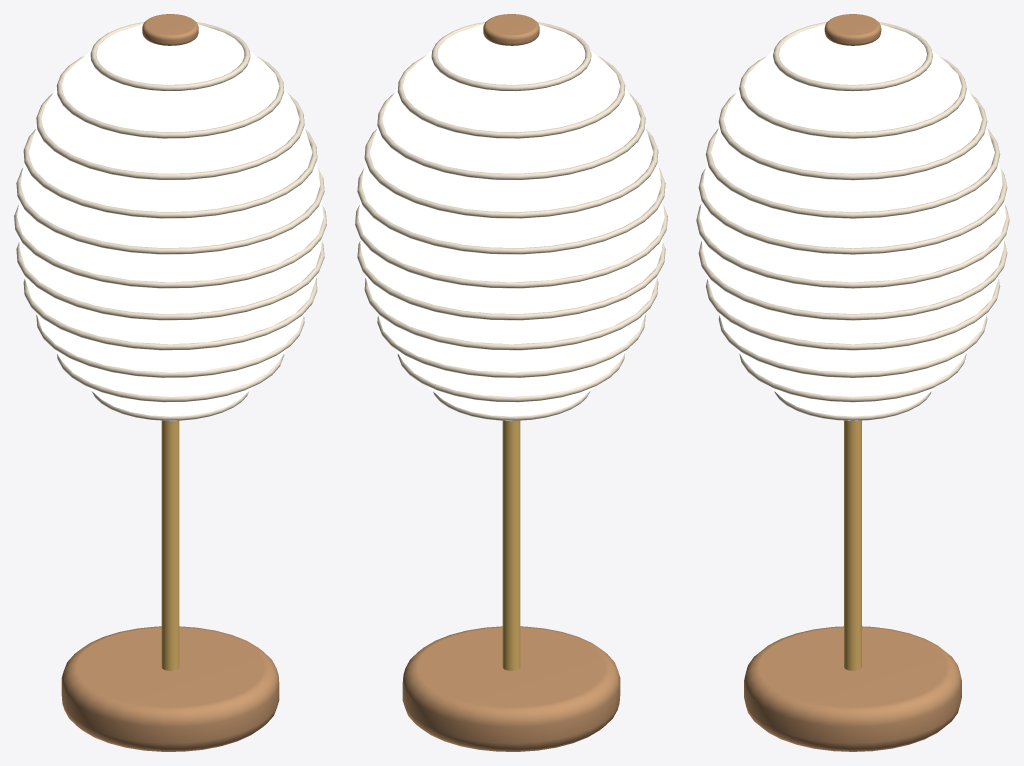
The model's file is lampFloorPaper.glb.
The picture shows the model from 3 angles, left to right: view 1: azimuth 30°, elevation 25°; view 2: azimuth 150°, elevation 25°; view 3: azimuth 270°, elevation 25°; orthographic projection.
Parts seen in each view (by area): view 1: Rice paper lantern, Paper lamp base, Lantern pole, Paper lantern rib.007, Paper lantern rib.006, Paper lantern rib.004, Paper lantern rib.005, Paper lantern rib.008, Paper lantern rib.003, Paper lantern rib.009, Paper lantern rib.010, Paper lantern rib.002 (+3 smaller); view 2: Rice paper lantern, Paper lamp base, Lantern pole, Paper lantern rib.007, Paper lantern rib.006, Paper lantern rib.004, Paper lantern rib.005, Paper lantern rib.008, Paper lantern rib.003, Paper lantern rib.009, Paper lantern rib.010, Paper lantern rib.002 (+3 smaller); view 3: Rice paper lantern, Paper lamp base, Lantern pole, Paper lantern rib.007, Paper lantern rib.006, Paper lantern rib.004, Paper lantern rib.005, Paper lantern rib.008, Paper lantern rib.003, Paper lantern rib.009, Paper lantern rib.010, Paper lantern rib.002 (+3 smaller).
Part boxes in pixels (bbox=[...]): Rice paper lantern: bbox=[17, 24, 323, 420]; Paper lamp base: bbox=[61, 626, 279, 751]; Lantern pole: bbox=[161, 420, 179, 670]; Paper lantern rib.007: bbox=[23, 129, 317, 218]; Paper lantern rib.006: bbox=[16, 168, 324, 254]; Paper lantern rib.004: bbox=[16, 241, 324, 320]; Paper lantern rib.005: bbox=[14, 205, 326, 288]; Paper lantern rib.008: bbox=[36, 93, 304, 179]; Paper lantern rib.003: bbox=[23, 278, 317, 350]; Paper lantern rib.009: bbox=[56, 56, 284, 138]; Paper lantern rib.010: bbox=[90, 22, 250, 91]; Paper lantern rib.002: bbox=[36, 315, 304, 377]; Rice paper lantern: bbox=[358, 24, 664, 420]; Paper lamp base: bbox=[402, 626, 620, 751]; Lantern pole: bbox=[502, 420, 520, 670]; Paper lantern rib.007: bbox=[364, 129, 658, 218]; Paper lantern rib.006: bbox=[357, 168, 665, 254]; Paper lantern rib.004: bbox=[357, 241, 665, 320]; Paper lantern rib.005: bbox=[355, 205, 667, 288]; Paper lantern rib.008: bbox=[377, 93, 645, 179]; Paper lantern rib.003: bbox=[364, 278, 658, 350]; Paper lantern rib.009: bbox=[397, 56, 625, 138]; Paper lantern rib.010: bbox=[431, 22, 591, 91]; Paper lantern rib.002: bbox=[377, 315, 645, 377]; Rice paper lantern: bbox=[700, 24, 1005, 420]; Paper lamp base: bbox=[744, 626, 961, 751]; Lantern pole: bbox=[844, 420, 861, 670]; Paper lantern rib.007: bbox=[705, 128, 1000, 218]; Paper lantern rib.006: bbox=[698, 169, 1007, 254]; Paper lantern rib.004: bbox=[698, 241, 1007, 320]; Paper lantern rib.005: bbox=[696, 204, 1009, 288]; Paper lantern rib.008: bbox=[718, 93, 987, 180]; Paper lantern rib.003: bbox=[705, 279, 1000, 350]; Paper lantern rib.009: bbox=[739, 57, 966, 138]; Paper lantern rib.010: bbox=[773, 22, 932, 91]; Paper lantern rib.002: bbox=[718, 315, 987, 377].
Size of the model in its own units: 0.776 by 1.88 by 0.776.
